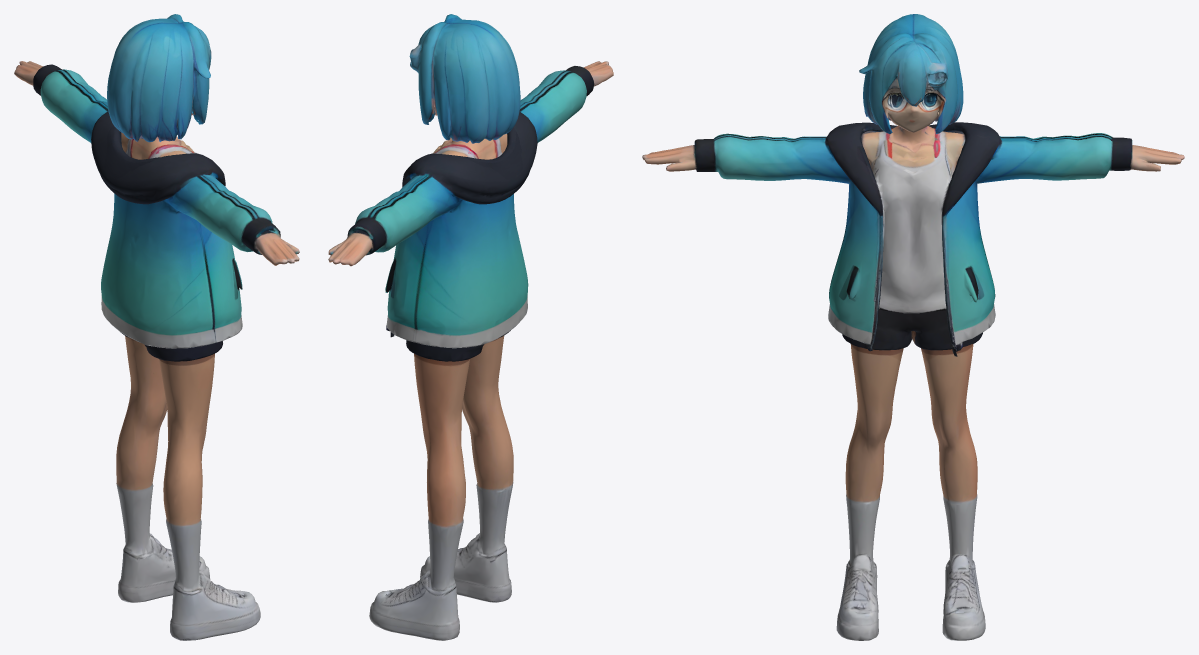
The model's file is Aina+Venara.glb.
3 views of the same model, side by side, from view 1: azimuth 30°, elevation 25°; view 2: azimuth 150°, elevation 25°; view 3: azimuth 270°, elevation 25° (orthographic).
Visible parts, largest first — view 1: tripo_node_d4c5e354-49c8-43d1-beb0-29d15a694b35; view 2: tripo_node_d4c5e354-49c8-43d1-beb0-29d15a694b35; view 3: tripo_node_d4c5e354-49c8-43d1-beb0-29d15a694b35.
Part boxes in pixels (x1,y1,x2,y2): tripo_node_d4c5e354-49c8-43d1-beb0-29d15a694b35: (14, 14, 299, 640); tripo_node_d4c5e354-49c8-43d1-beb0-29d15a694b35: (328, 14, 613, 640); tripo_node_d4c5e354-49c8-43d1-beb0-29d15a694b35: (642, 14, 1184, 640).
Size of the model in its own units: 0.2162 by 1 by 0.8347.
1 material, 1 textured.
